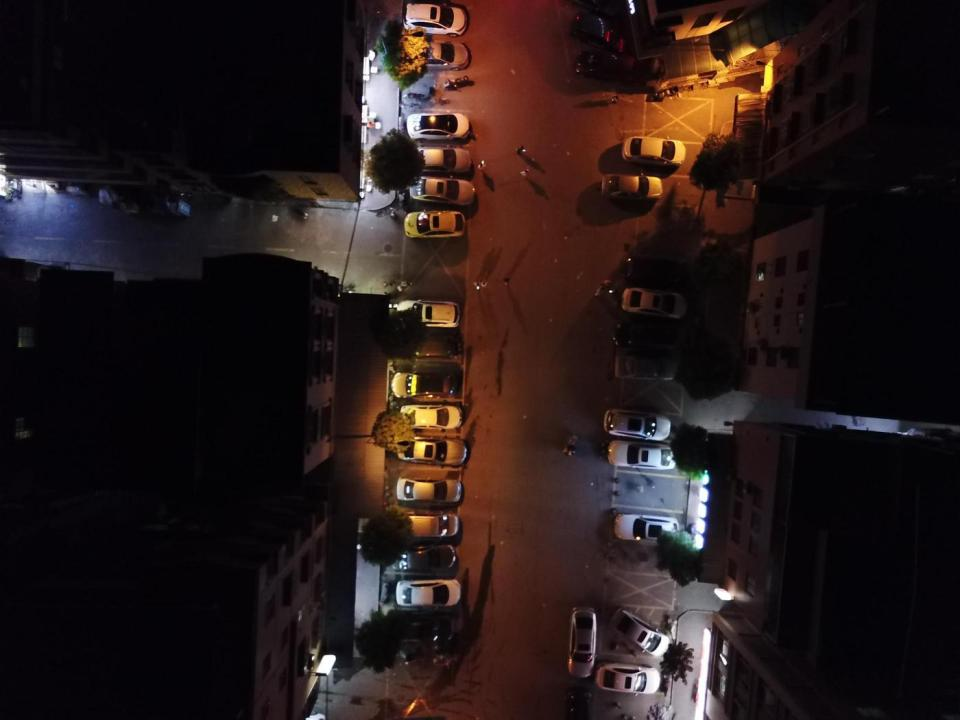car: (610, 607, 670, 658), (569, 9, 634, 55), (403, 0, 468, 38), (601, 407, 672, 441), (619, 286, 689, 320), (596, 662, 660, 698), (396, 434, 467, 466), (567, 605, 598, 677), (621, 255, 689, 287), (608, 439, 678, 470), (410, 174, 476, 206), (390, 614, 455, 646), (621, 134, 686, 166), (613, 513, 680, 544), (396, 476, 463, 507), (394, 578, 462, 608), (390, 542, 458, 572), (574, 50, 634, 84), (611, 322, 683, 350), (407, 40, 470, 72), (601, 172, 663, 204), (394, 298, 460, 328), (390, 371, 460, 399), (406, 112, 470, 142), (398, 403, 462, 432), (614, 352, 680, 380), (403, 209, 466, 238), (412, 145, 471, 175), (565, 683, 593, 720)
van: (399, 511, 462, 540)
